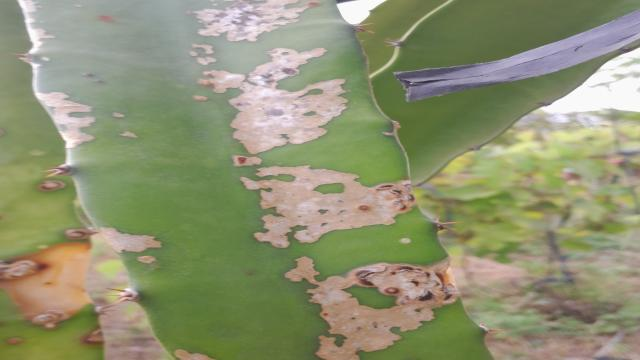stemcanker: (88, 223, 161, 264), (103, 100, 144, 154), (185, 86, 208, 111), (396, 230, 417, 253)
